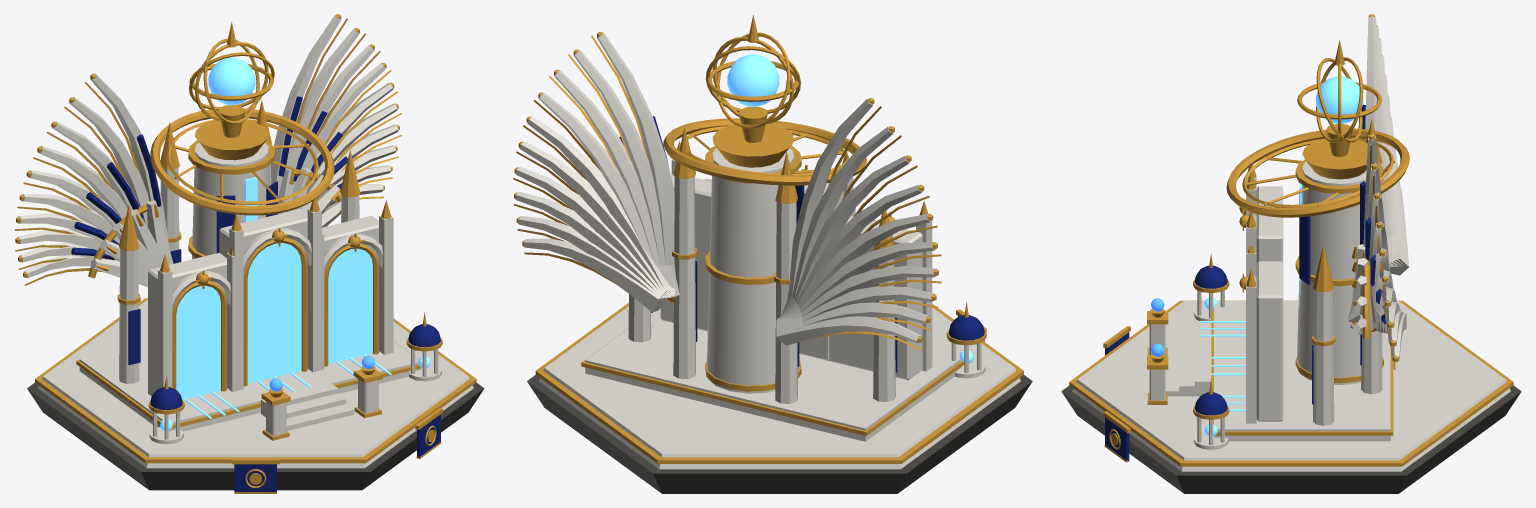
The model's file is zeus_tutor_structure_4.glb.
3 views of the same model, side by side, from view 1: azimuth 30°, elevation 25°; view 2: azimuth 150°, elevation 25°; view 3: azimuth 270°, elevation 25° (orthographic). The views are drawn at different scales.
Parts seen in each view (by area): view 1: zeus_tutor_structure_4; view 2: zeus_tutor_structure_4; view 3: zeus_tutor_structure_4.
Boxes of the visible parts, <box> form: zeus_tutor_structure_4: <box>14,14,484,493</box>; zeus_tutor_structure_4: <box>513,15,1032,493</box>; zeus_tutor_structure_4: <box>1061,14,1521,493</box>.
Size of the model in its own units: 1.68 by 1.55 by 1.72.
1 material, 1 textured.
